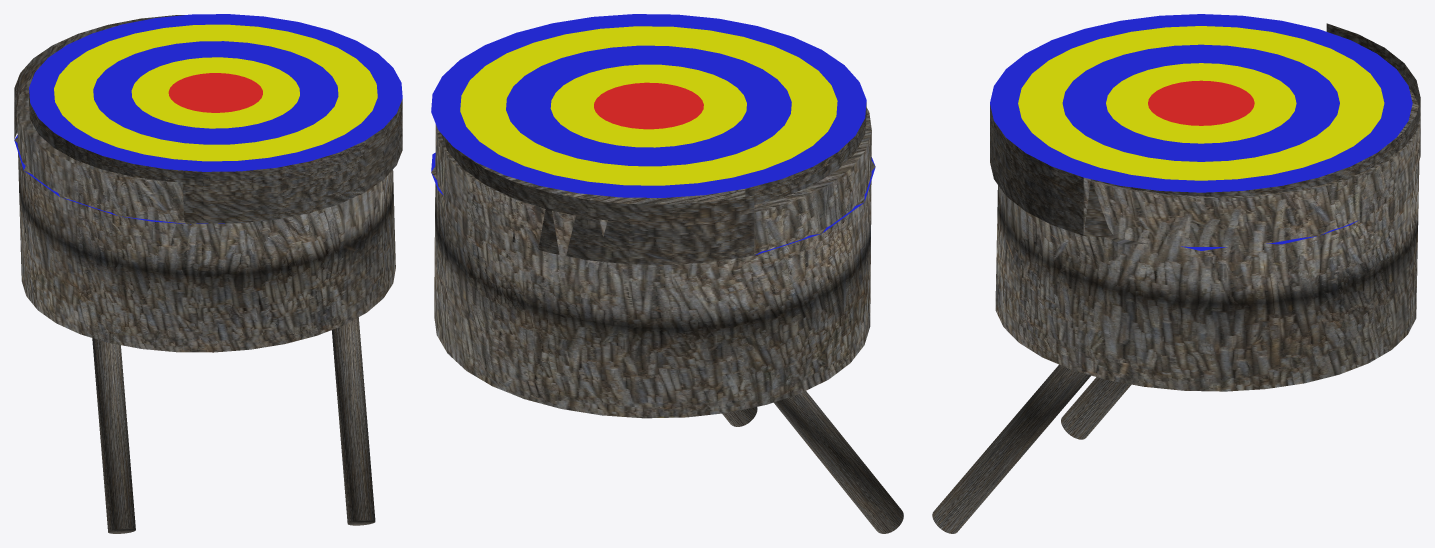
File: Archery Target.glb
The picture shows the model from 3 angles, left to right: view 1: azimuth 30°, elevation 25°; view 2: azimuth 150°, elevation 25°; view 3: azimuth 270°, elevation 25°; orthographic projection. The views are drawn at different scales.
Visible parts, largest first — view 1: Cylinder; view 2: Cylinder; view 3: Cylinder.
Part boxes in pixels (bbox=[...]): Cylinder: bbox=[14, 14, 402, 533]; Cylinder: bbox=[431, 14, 903, 533]; Cylinder: bbox=[932, 14, 1420, 533].
Size of the model in its own units: 2.05 by 2.17 by 2.31.
Materials: 5 (2 with a texture image).
